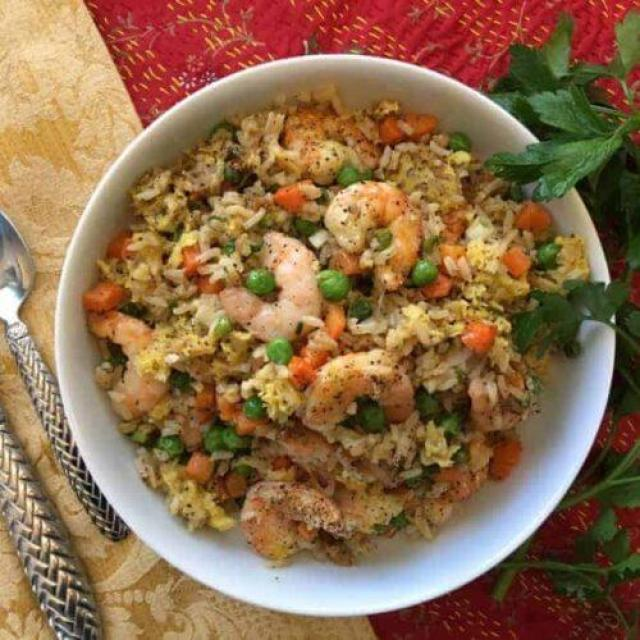Nasi Goreng: (81, 83, 591, 567)
